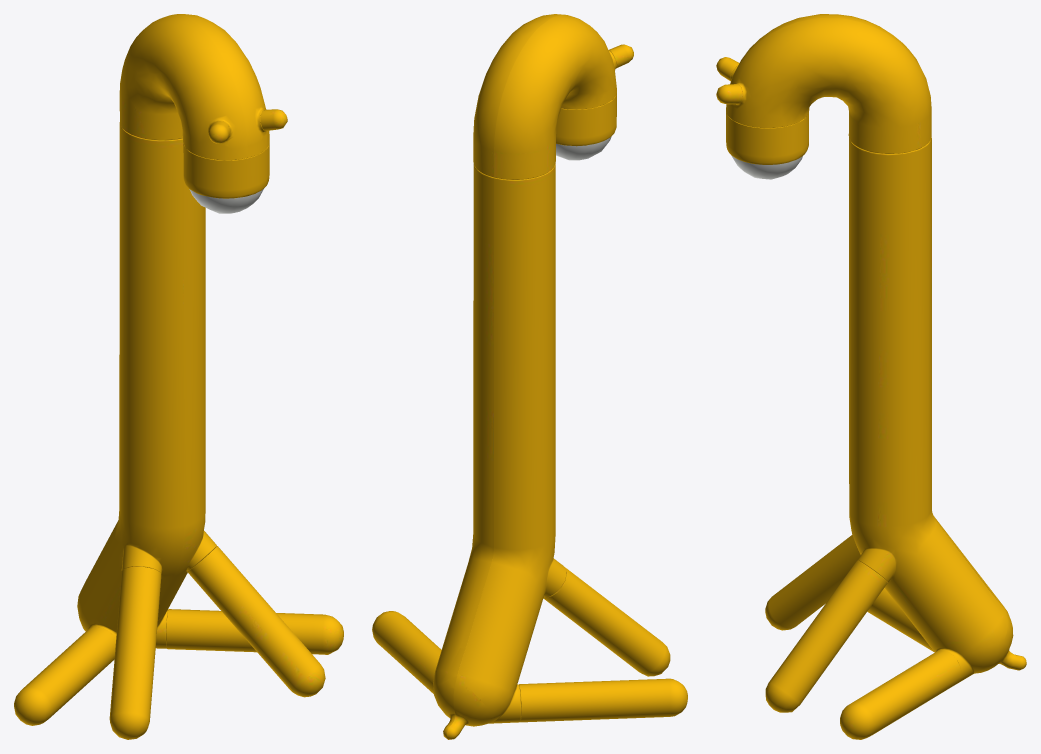
The model's file is grejsimojs_ozdobna_lampa_podogowa_led_00602039.glb.
3 renders of one model, left to right at view 1: azimuth 30°, elevation 25°; view 2: azimuth 150°, elevation 25°; view 3: azimuth 270°, elevation 25°, orthographic. The views are drawn at different scales.
Parts seen in each view (by area): view 1: grejsimojs_ozdobna_lampa_podogowa_led_00602039; view 2: grejsimojs_ozdobna_lampa_podogowa_led_00602039; view 3: grejsimojs_ozdobna_lampa_podogowa_led_00602039.
Boxes of the visible parts, <box> form: grejsimojs_ozdobna_lampa_podogowa_led_00602039: <box>14,14,343,739</box>; grejsimojs_ozdobna_lampa_podogowa_led_00602039: <box>372,14,687,739</box>; grejsimojs_ozdobna_lampa_podogowa_led_00602039: <box>716,14,1026,739</box>.
Size of the model in its own units: 0.3764 by 0.7498 by 0.3237.
Materials: 1 (1 with a texture image).
